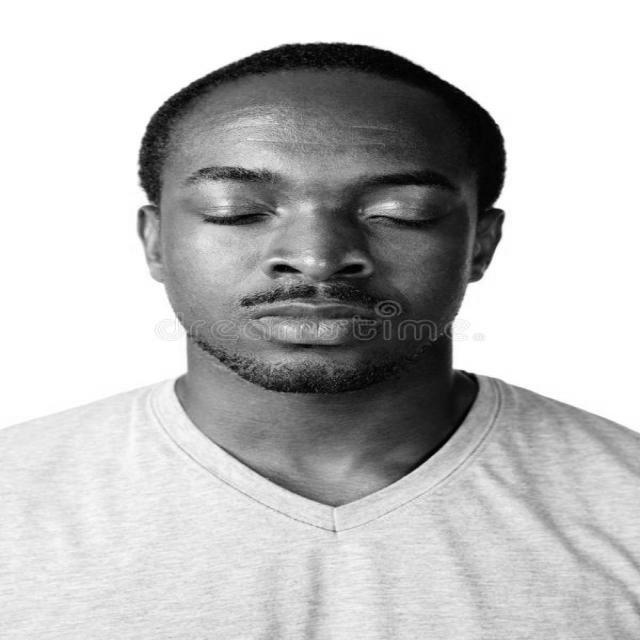real: (135, 47, 508, 395), (158, 158, 476, 236)
